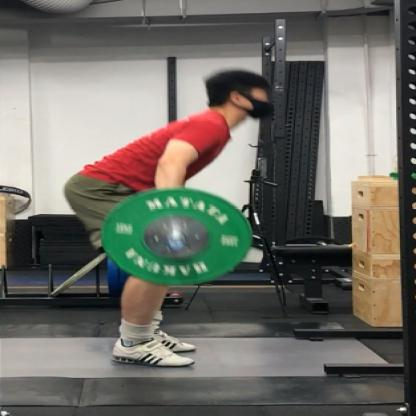Barbell: (92, 184, 261, 290)
